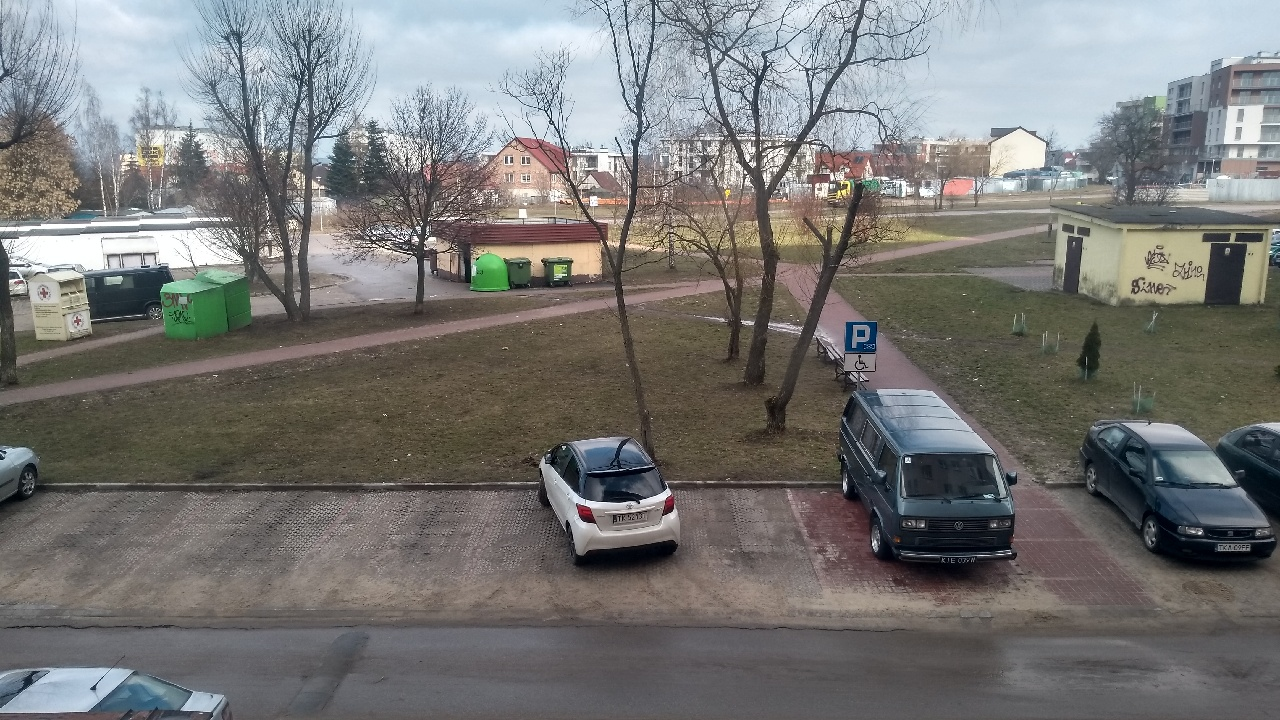D18: (840, 317, 883, 354)
